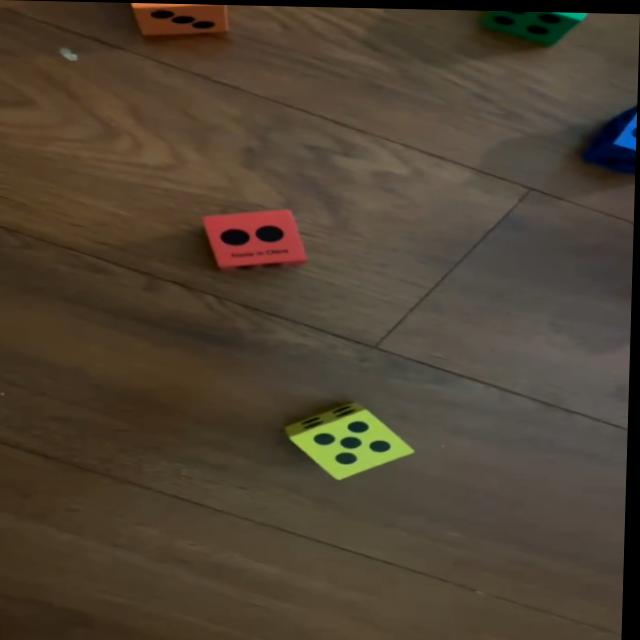blue_block: (582, 102, 638, 168)
red_block: (207, 207, 312, 273)
